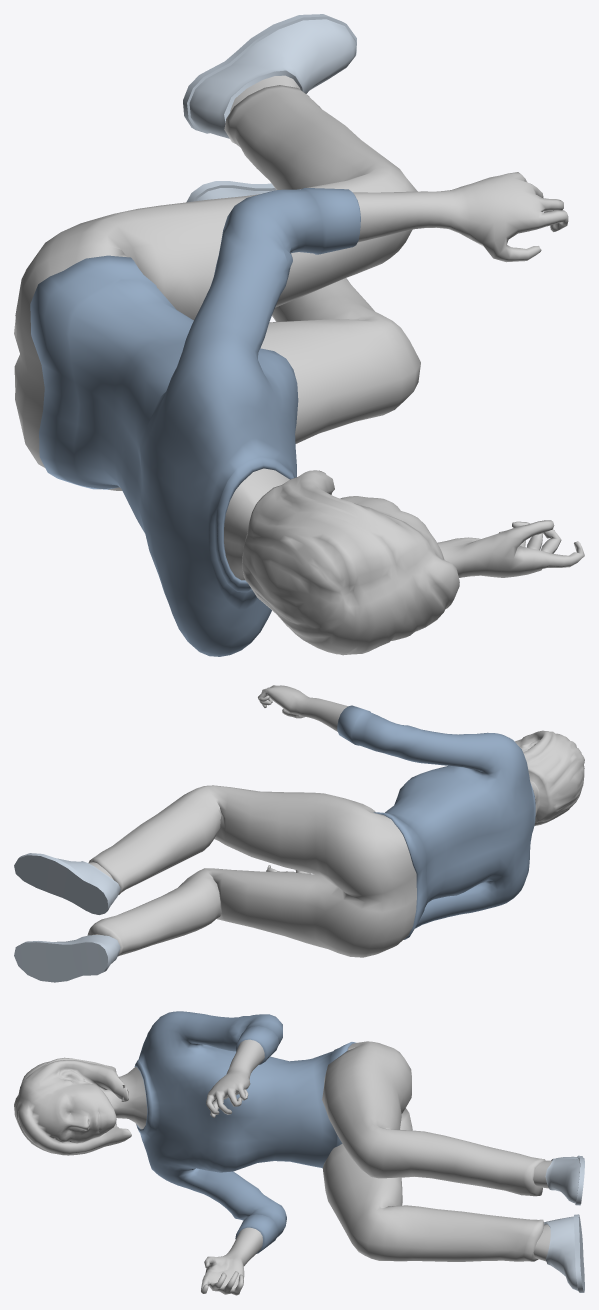
Rendered from Asian_Female.obj.
3 views of the same model, one above another, from view 1: azimuth 30°, elevation 25°; view 2: azimuth 150°, elevation 25°; view 3: azimuth 270°, elevation 25° (orthographic). The views are drawn at different scales.
Parts seen in each view (by area): view 1: European_Cab_OVer_Female_Asian; view 2: European_Cab_OVer_Female_Asian; view 3: European_Cab_OVer_Female_Asian.
Boxes of the visible parts, <box> form: European_Cab_OVer_Female_Asian: <box>14,14,584,656</box>; European_Cab_OVer_Female_Asian: <box>14,685,584,982</box>; European_Cab_OVer_Female_Asian: <box>14,1011,584,1295</box>.
Bounding box in the file's own units: 0.8556 × 0.5898 × 1.39.
